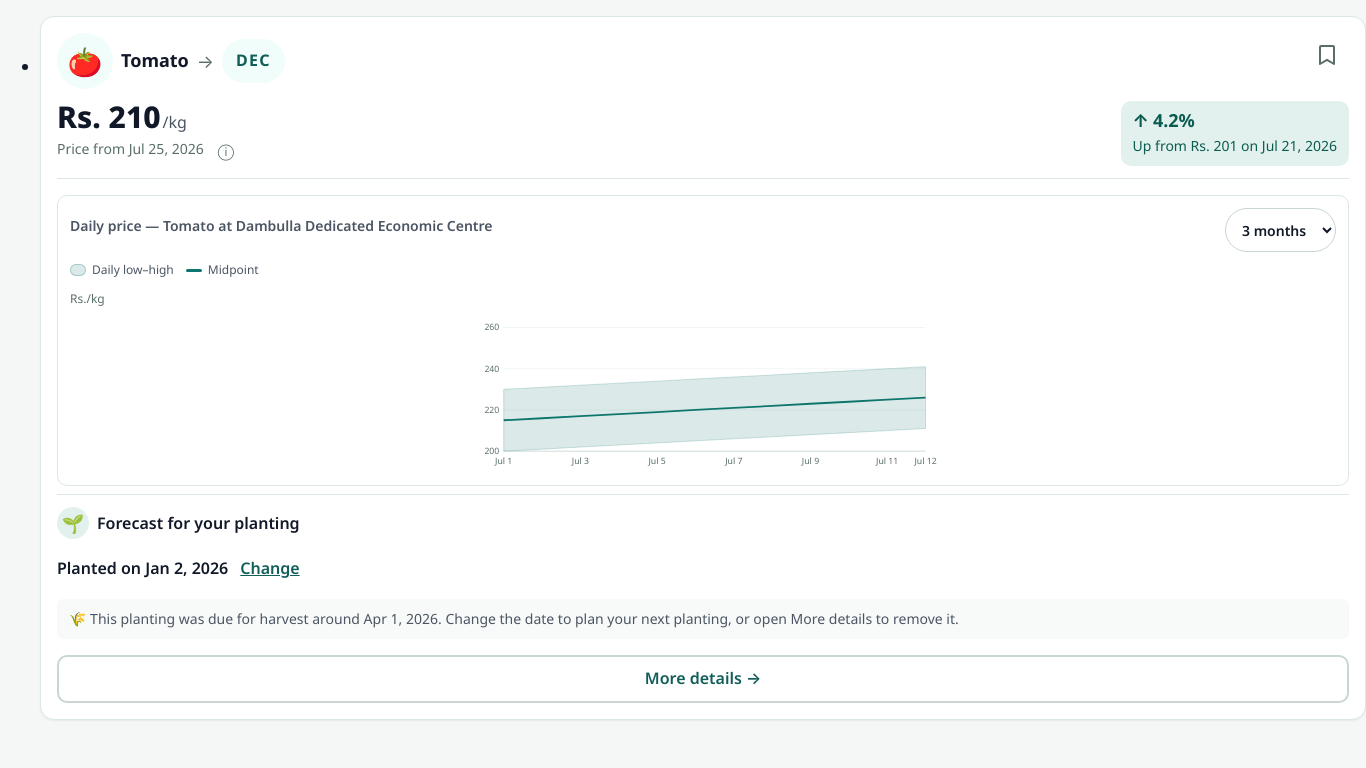
Test case: The planting date — a harvest that has already been and gone › names Change AND Remove in the popup, where both controls really are
Step 1. Click the button with aria-label "More details for Tomato" → {"x": 703, "y": 679}, box left=57, top=655, right=1349, bottom=703
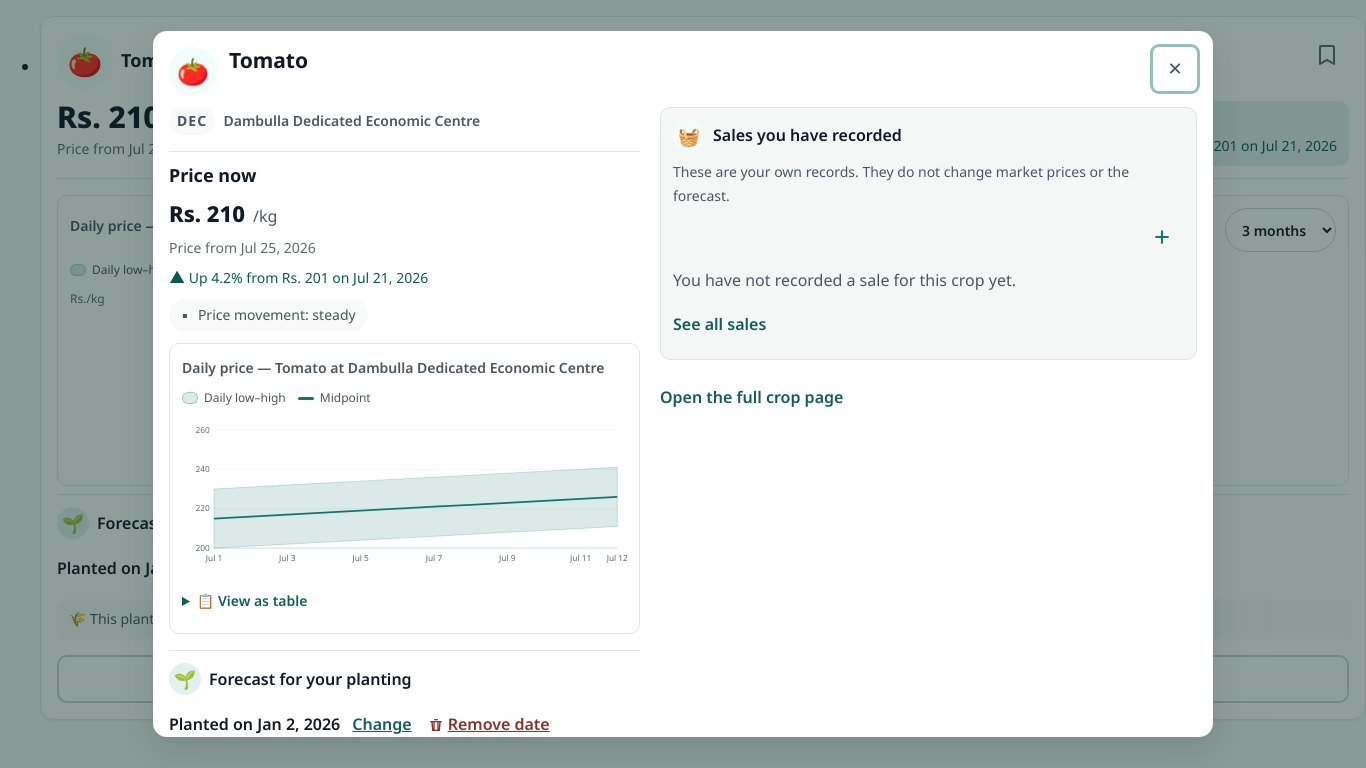
Check: the button with aria-label "Remove the planting date for Tomato" is shown, box left=424, top=703, right=554, bottom=737
